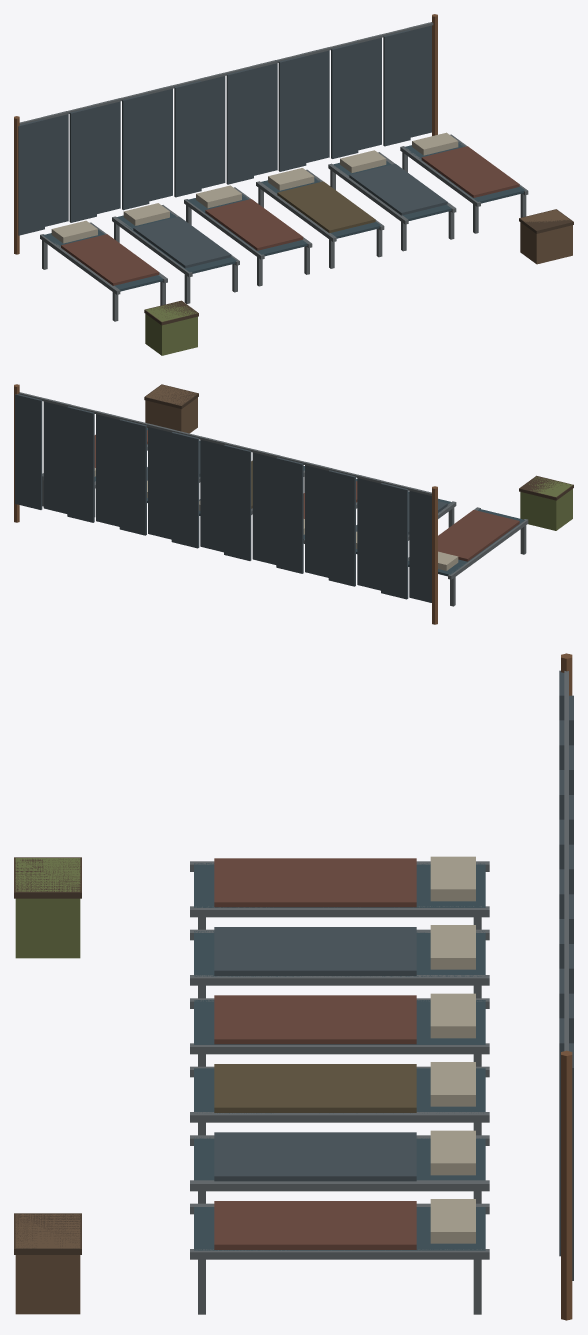
Rendered from room_sleeping_2.glb.
The picture shows the model from 3 angles, top to bottom: view 1: azimuth 30°, elevation 25°; view 2: azimuth 150°, elevation 25°; view 3: azimuth 270°, elevation 25°; orthographic projection. The views are drawn at different scales.
Parts seen in each view (by area): view 1: room_sleeping_2; view 2: room_sleeping_2; view 3: room_sleeping_2.
Boxes of the visible parts, x1,y1,x2,y2 form: room_sleeping_2: [14, 14, 573, 355]; room_sleeping_2: [14, 384, 573, 624]; room_sleeping_2: [14, 653, 573, 1320].
Bounding box in the file's own units: 5.88 × 1.8 × 3.46.
